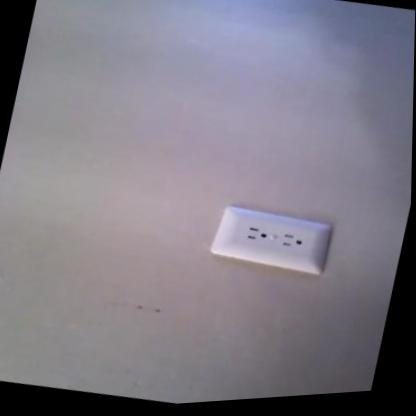OUTLET: (207, 198, 334, 280)
